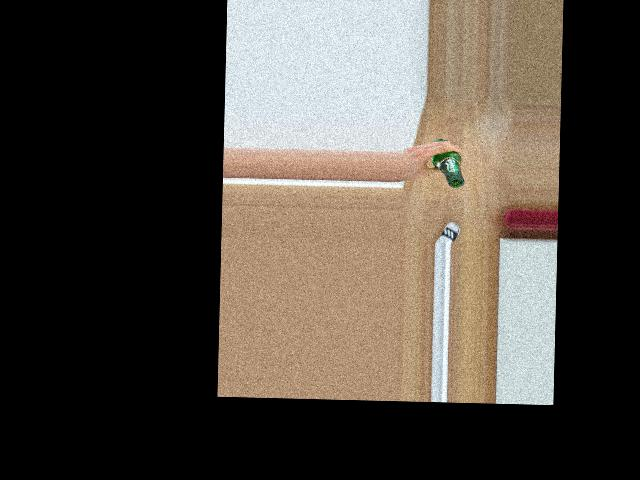beer: (430, 139, 465, 188)
